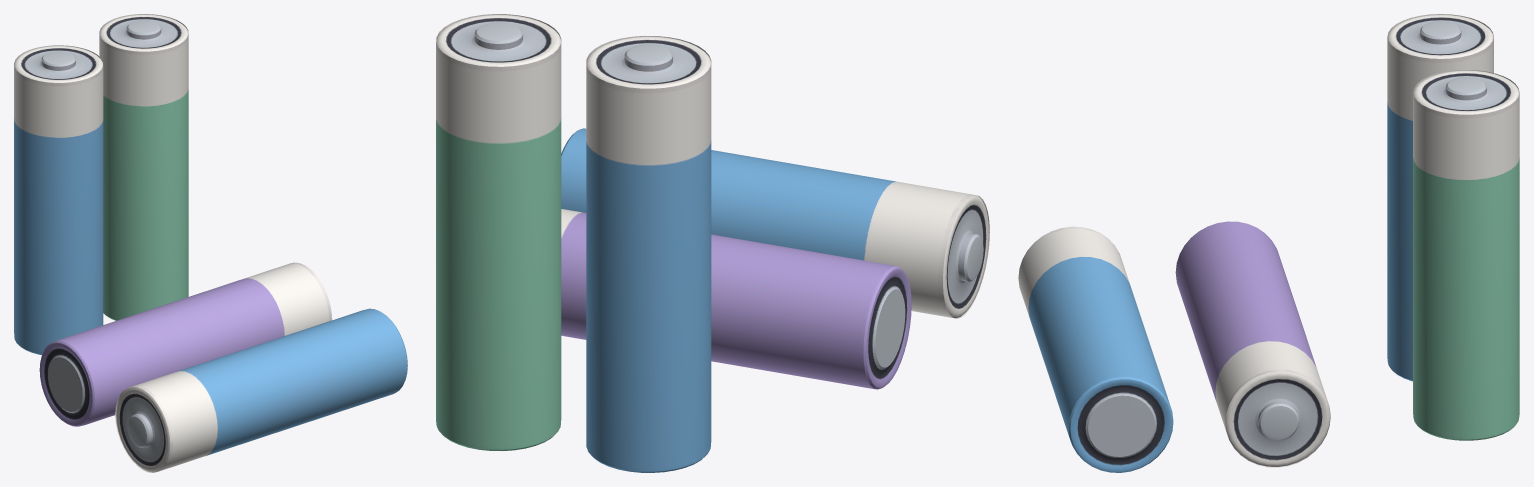
The model's file is battery.glb.
The picture shows the model from 3 angles, left to right: view 1: azimuth 30°, elevation 25°; view 2: azimuth 150°, elevation 25°; view 3: azimuth 270°, elevation 25°; orthographic projection. The views are drawn at different scales.
Visible parts, largest first — view 1: aa-battery_body; view 2: aa-battery_body; view 3: aa-battery_body.
Part boxes in pixels (box(x1,y1,x2,y2)): aa-battery_body: box(14, 14, 407, 472); aa-battery_body: box(436, 14, 989, 472); aa-battery_body: box(1018, 14, 1519, 472).
Bounding box in the file's own units: 0.0526 × 0.0505 × 0.0683.
Materials: 1 (1 with a texture image).
